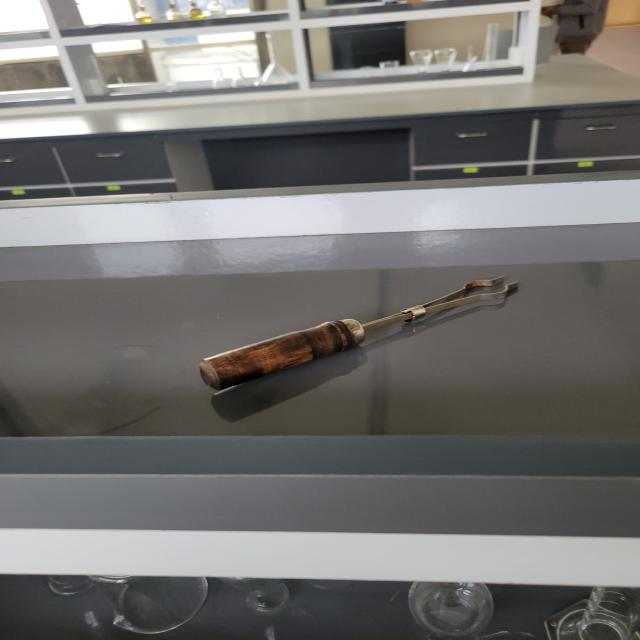TestTube_Holder: (174, 227, 560, 428)
